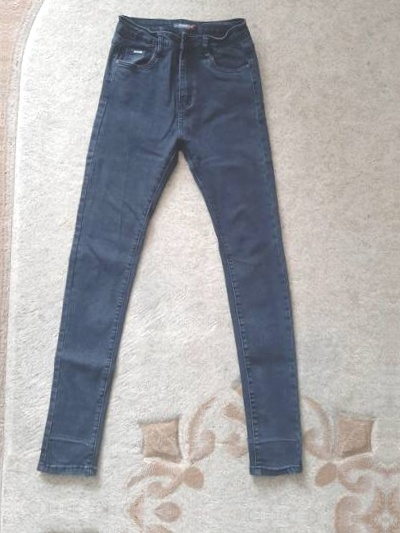Pants: (33, 11, 345, 493)
